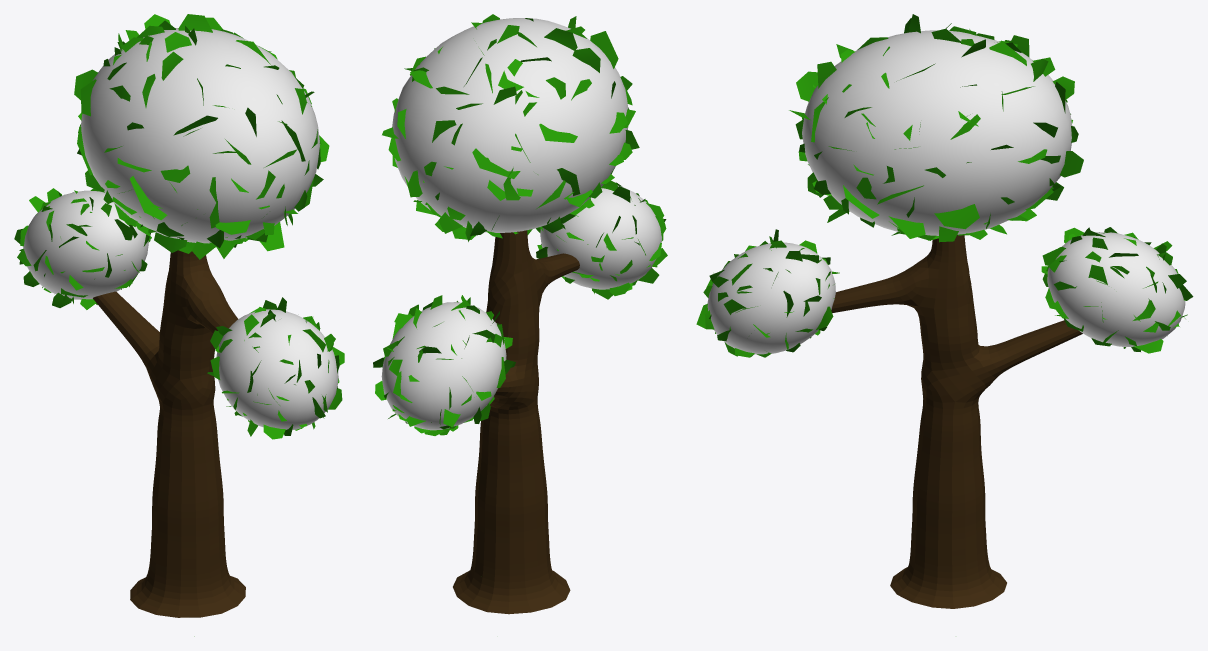
The model's file is Tree.fbx.
The picture shows the model from 3 angles, left to right: view 1: azimuth 30°, elevation 25°; view 2: azimuth 150°, elevation 25°; view 3: azimuth 270°, elevation 25°; orthographic projection.
Visible parts, largest first — view 1: 球.009, Vert.001, 球.011, 球.010, 球.009|平面.001|Dupli|176; view 2: 球.009, Vert.001, 球.010, 球.011, 球.009|平面.001|Dupli|128, 球.009|平面.001|Dupli|428; view 3: 球.009, Vert.001, 球.010, 球.011, 球.009|平面.001|Dupli|728.
Part boxes in pixels (x1,y1,x2,y2): 球.009: (80,28,320,243); Vert.001: (93,250,245,617); 球.011: (216,309,338,430); 球.010: (23,190,148,299); 球.009|平面.001|Dupli|176: (130,176,167,220); 球.009: (392,18,628,232); Vert.001: (453,230,579,614); 球.010: (381,302,506,430); 球.011: (540,185,661,289); 球.009|平面.001|Dupli|128: (590,31,618,68); 球.009|平面.001|Dupli|428: (472,148,520,178); 球.009: (802,30,1072,235); Vert.001: (831,234,1082,608); 球.010: (1047,232,1185,346); 球.011: (707,242,835,354); 球.009|平面.001|Dupli|728: (934,204,979,229).
Bounding box in the file's own units: 232 × 651 × 484.
